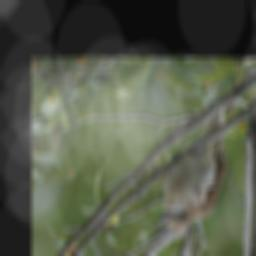Cuckoo: (157, 107, 228, 232)
